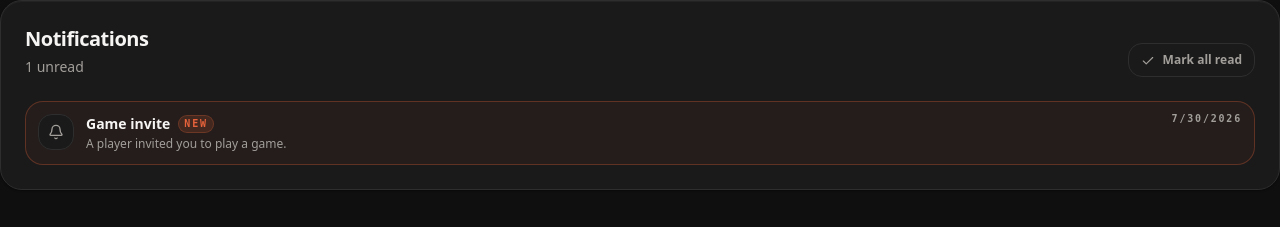
NotificationsPanel › does not mark an unsupported notification as read
The image size is (1280, 227).
Click the text "Game invite" at (128, 124), box [86,114,170,134]
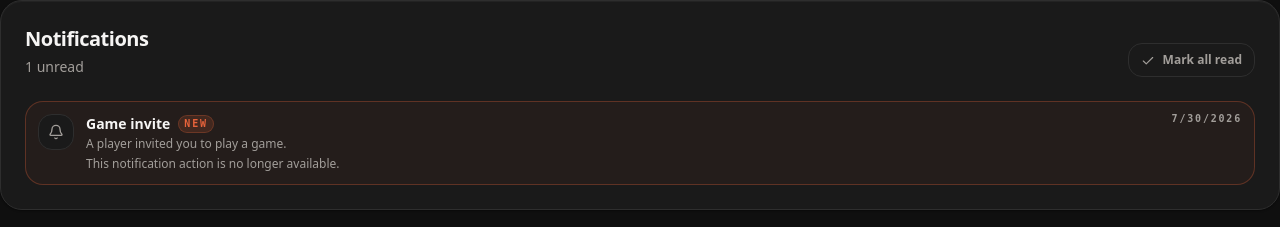
Now the text "This notification action is no longer available." is shown, box [86,155,340,172]
